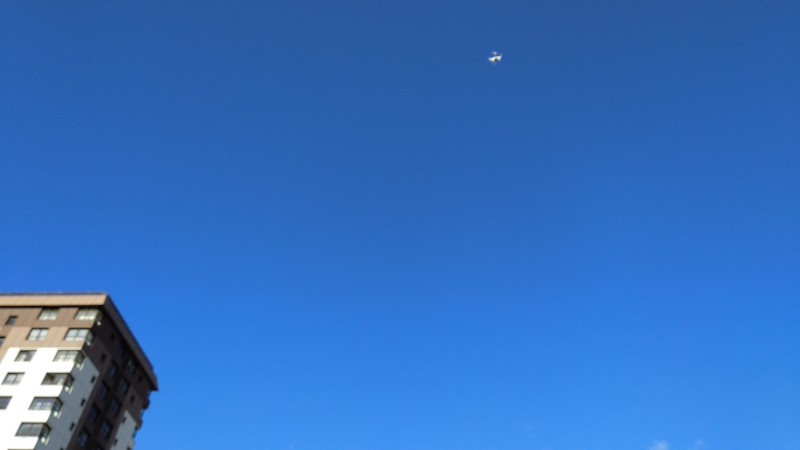drone: (487, 50, 501, 64)
